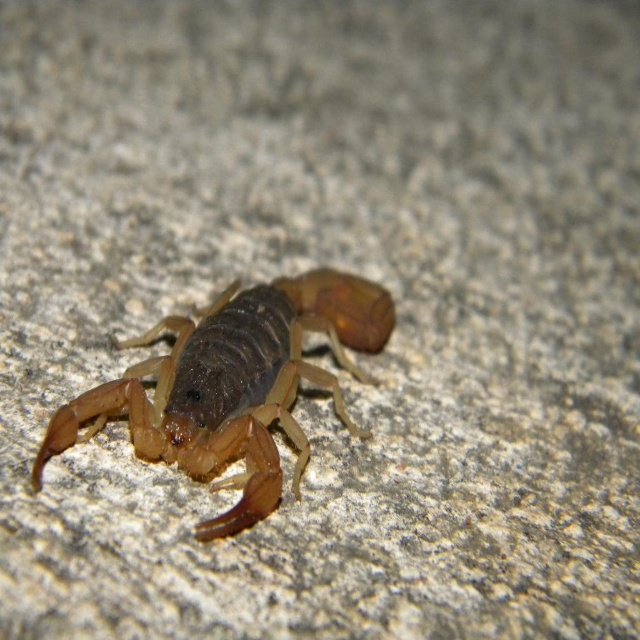Scorpion: (31, 259, 399, 545)
